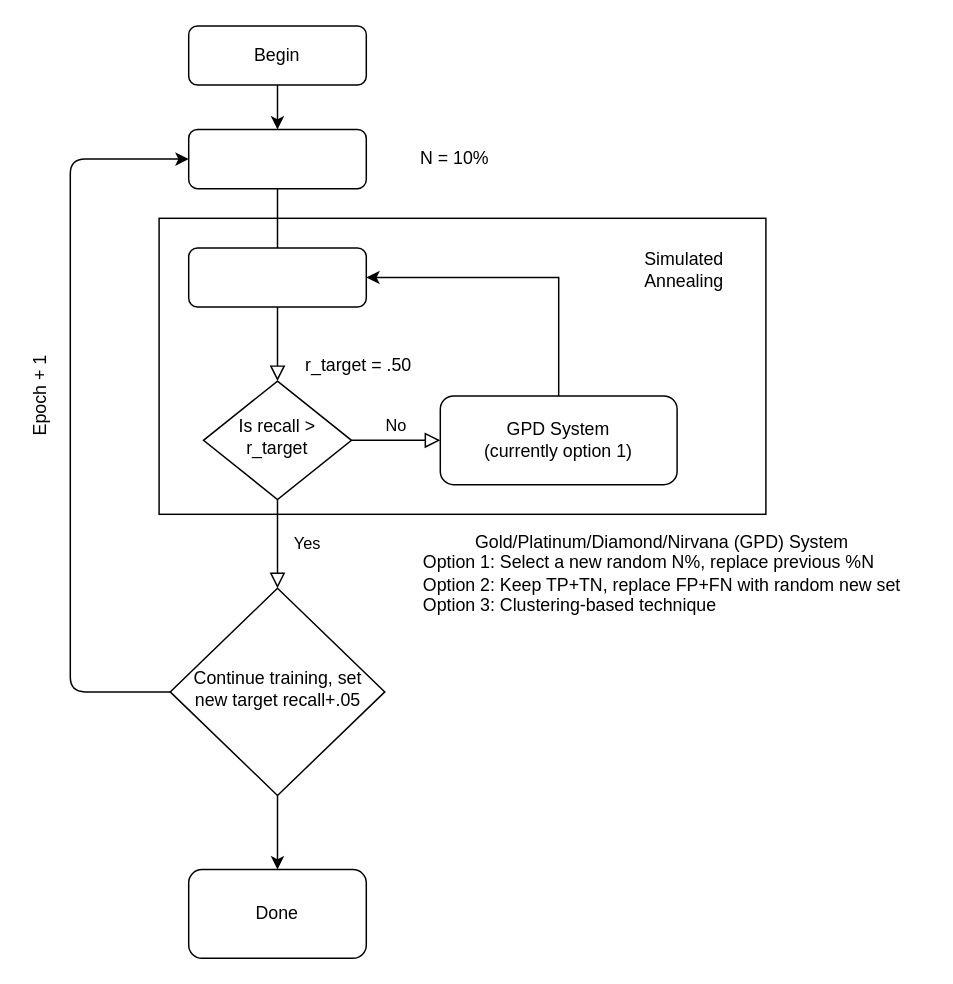
Some shapes in this 953 by 984 pixel diagram are drawn without their labels. The shapes that lost their labels are listed below. From the top down, each one's centre as x and y in pixels, then its label:
At point 276,158: "Sample training data by a low N %".
At point 276,276: "Train data by N%".
